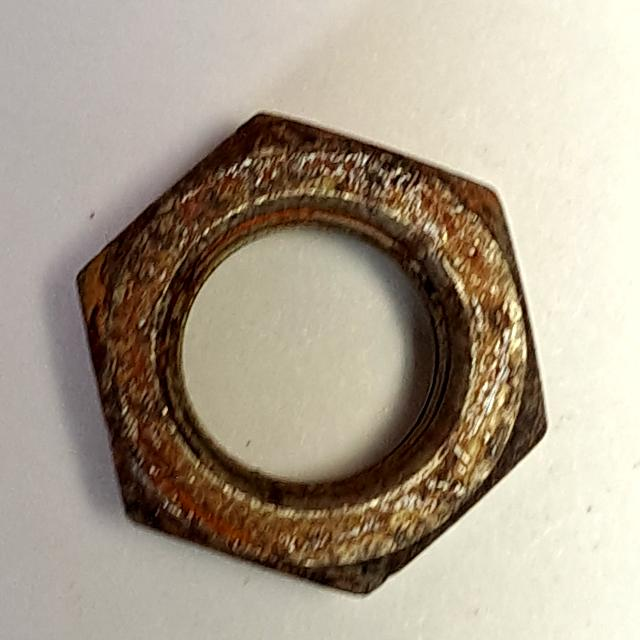Rust: (68, 100, 558, 609)
